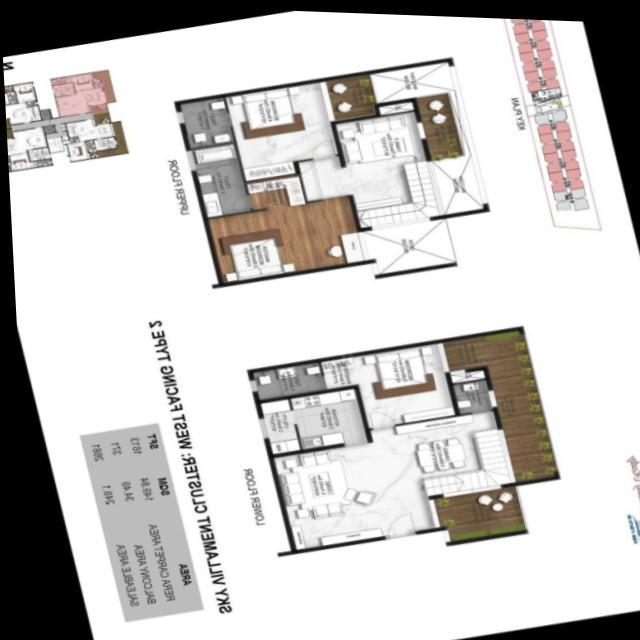Balcony-Sitout: (480, 358, 556, 482), (430, 478, 523, 543), (435, 320, 528, 372)
Bedroom: (221, 75, 342, 169), (342, 336, 455, 427)
Bedroom with Toilet: (201, 193, 366, 284)
Dining: (400, 428, 467, 473)
Dress: (241, 169, 306, 210), (315, 350, 355, 388)
Kitchen: (283, 383, 368, 452)
Living: (327, 102, 443, 230), (266, 434, 391, 551)
Toilet: (243, 355, 325, 401), (175, 92, 236, 150), (190, 160, 250, 218)
Utility: (251, 391, 300, 455)
